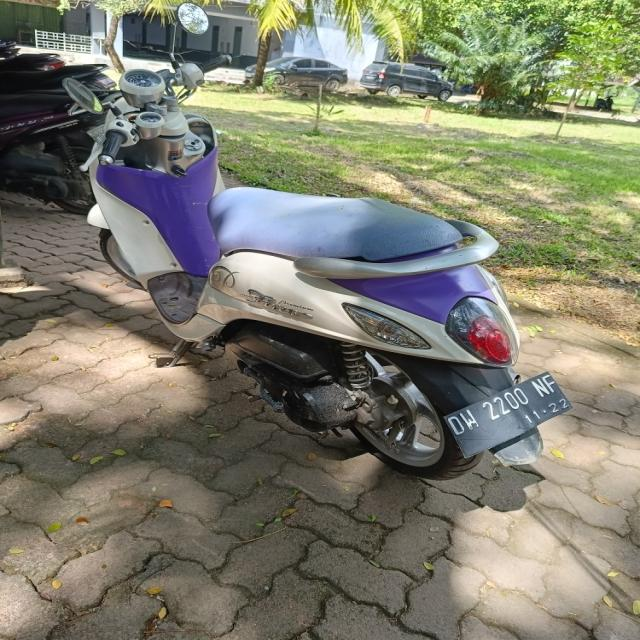plates: (440, 373, 570, 464)
